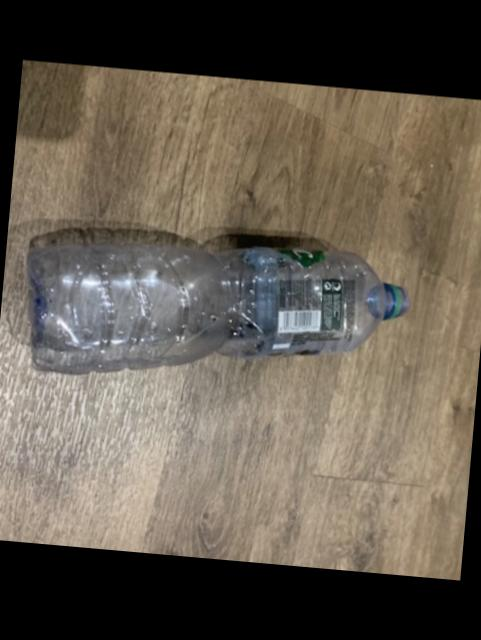plastic: (30, 243, 409, 372)
